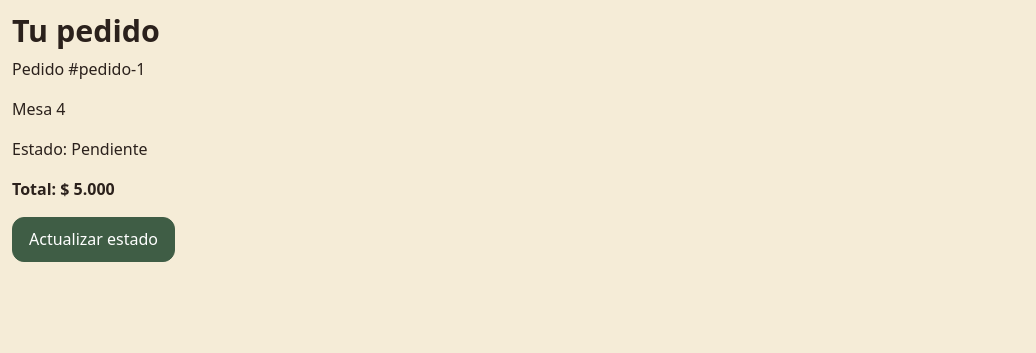
Scenario: SeguimientoPedido › muestra un mensaje legible si el seguimiento devuelve un contrato inválido
Click the button "Actualizar estado".
click(94, 239)  # box [12, 216, 175, 262]
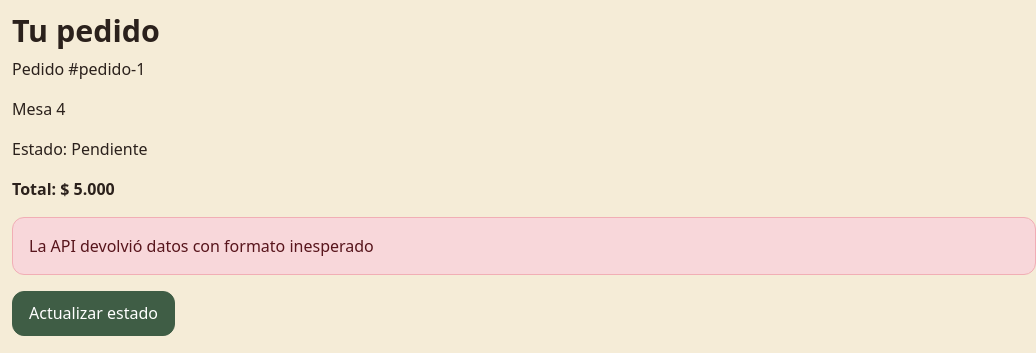
Expected: the text "Estado: Pendiente" is shown, [12, 138, 148, 160]
Expected: the message shows "formato inesperado", [29, 234, 374, 256]
